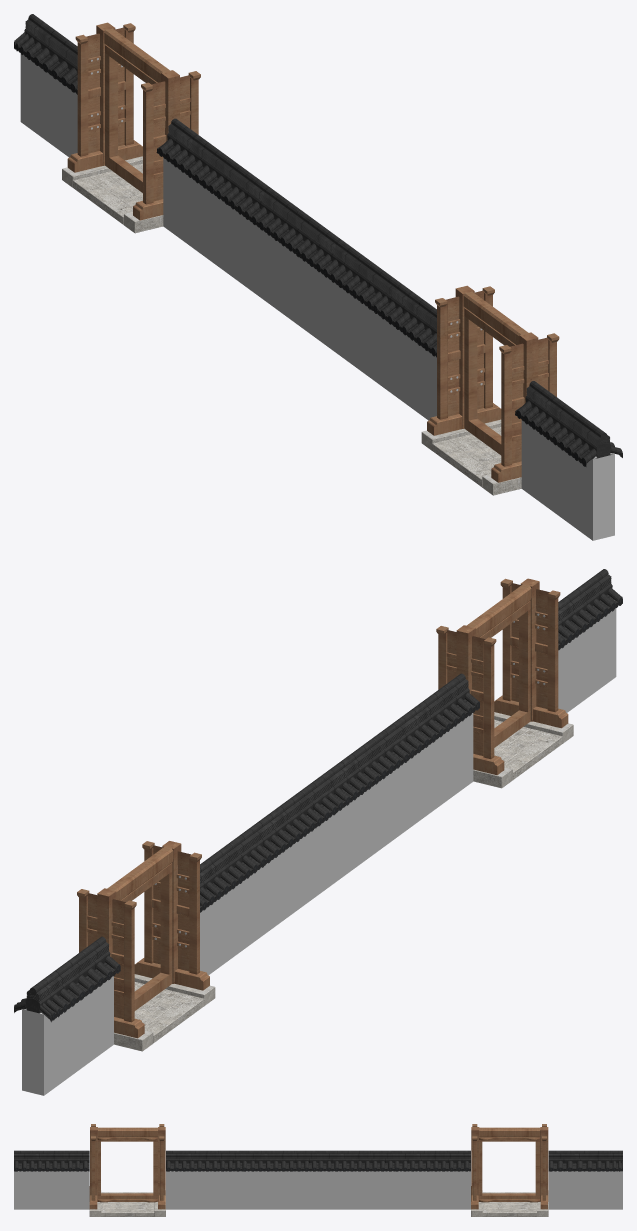
Rendered from SM_JSH_HG_StoneWallH_Splines_14.fbx.
The picture shows the model from 3 angles, top to bottom: view 1: azimuth 30°, elevation 25°; view 2: azimuth 150°, elevation 25°; view 3: azimuth 270°, elevation 25°; orthographic projection. The views are drawn at different scales.
Visible parts, largest first — view 1: SM_JSH_HG_StoneWallH_Splines_14; view 2: SM_JSH_HG_StoneWallH_Splines_14; view 3: SM_JSH_HG_StoneWallH_Splines_14.
Part boxes in pixels (bbox=[...]): SM_JSH_HG_StoneWallH_Splines_14: bbox=[14, 14, 622, 540]; SM_JSH_HG_StoneWallH_Splines_14: bbox=[14, 569, 622, 1095]; SM_JSH_HG_StoneWallH_Splines_14: bbox=[14, 1124, 622, 1216].
Bounding box in the file's own units: 141 × 1756 × 248.
